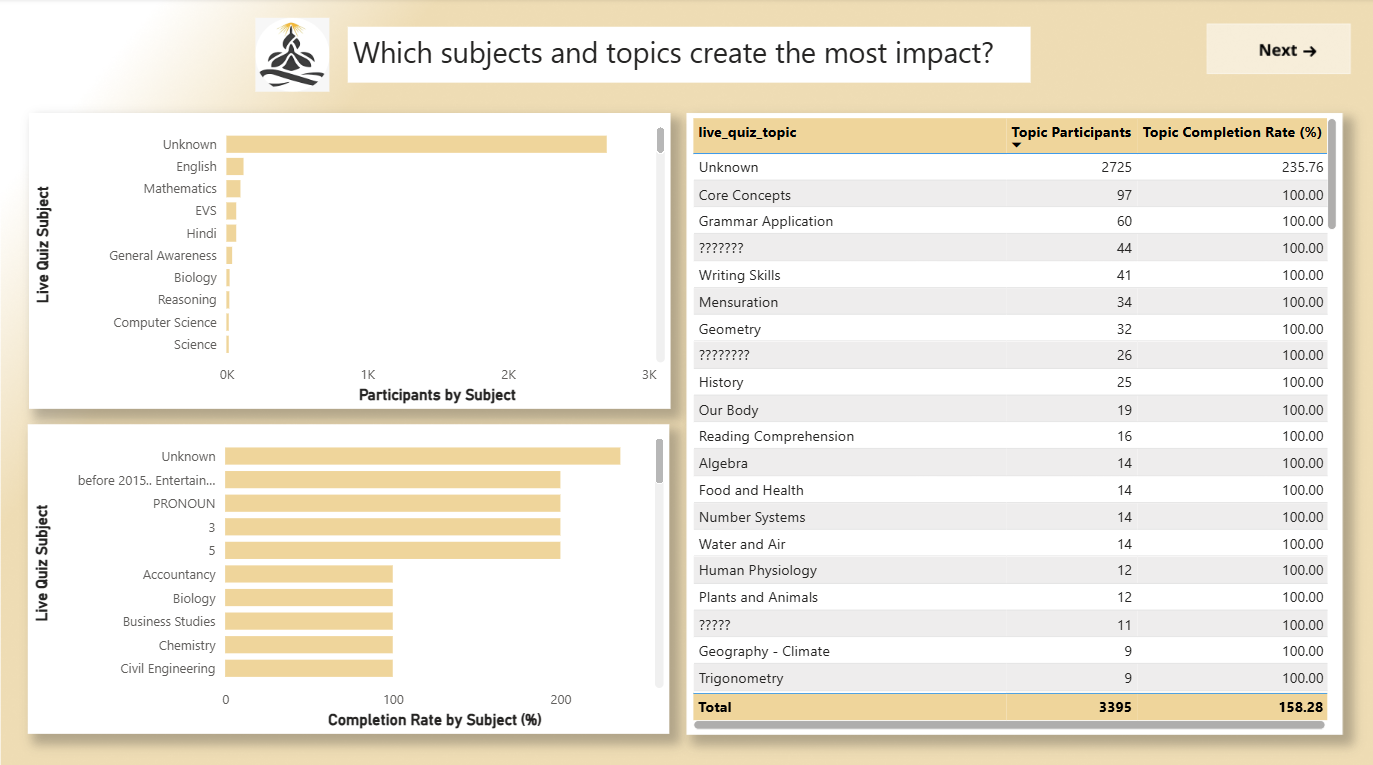

Layout of this report page (visuals, bound fields, positions):
{"tool":"powerbi","page":{"name":"Page 2","canvas":[1280,720],"ordinal":2},"visuals":[{"type":"clusteredBarChart","fields":{"Category":["vw_dashboard_quiz_analytics.live_quiz_subject"],"Y":["_Measures.Participants by Subject"]},"box":[28.3,106.7,596.7,275],"z":0},{"type":"clusteredBarChart","fields":{"Category":["vw_dashboard_quiz_analytics.live_quiz_subject"],"Y":["_Measures.Completion Rate by Subject (%)"]},"box":[26.7,396.7,596.7,288.3],"z":1000},{"type":"tableEx","fields":{"Values":["vw_dashboard_quiz_analytics.live_quiz_topic","_Measures.Topic Participants","_Measures.Topic Completion Rate (%)"]},"box":[640,107.1,610,578.6],"z":2000},{"type":"image","box":[233.3,13.3,78.3,80],"z":3000},{"type":"textbox","box":[325,26.7,635,51.7],"z":4000},{"type":"actionButton","box":[1126.7,26.7,123.3,45],"z":5000}]}

Visuals, with their boxes in screenshot pixels (x1, y1, x2, y2), scaled from the page's 1280x720 canvas onto the 1373x765 screenshot:
clusteredBarChart - vw_dashboard_quiz_analytics.live_quiz_subject x _Measures.Participants by Subject: BBox(30, 113, 670, 406)
clusteredBarChart - vw_dashboard_quiz_analytics.live_quiz_subject x _Measures.Completion Rate by Subject (%): BBox(29, 421, 669, 728)
tableEx - vw_dashboard_quiz_analytics.live_quiz_topic x _Measures.Topic Participants: BBox(686, 114, 1341, 729)
image: BBox(250, 14, 334, 99)
textbox: BBox(349, 28, 1030, 83)
actionButton: BBox(1209, 28, 1341, 76)
